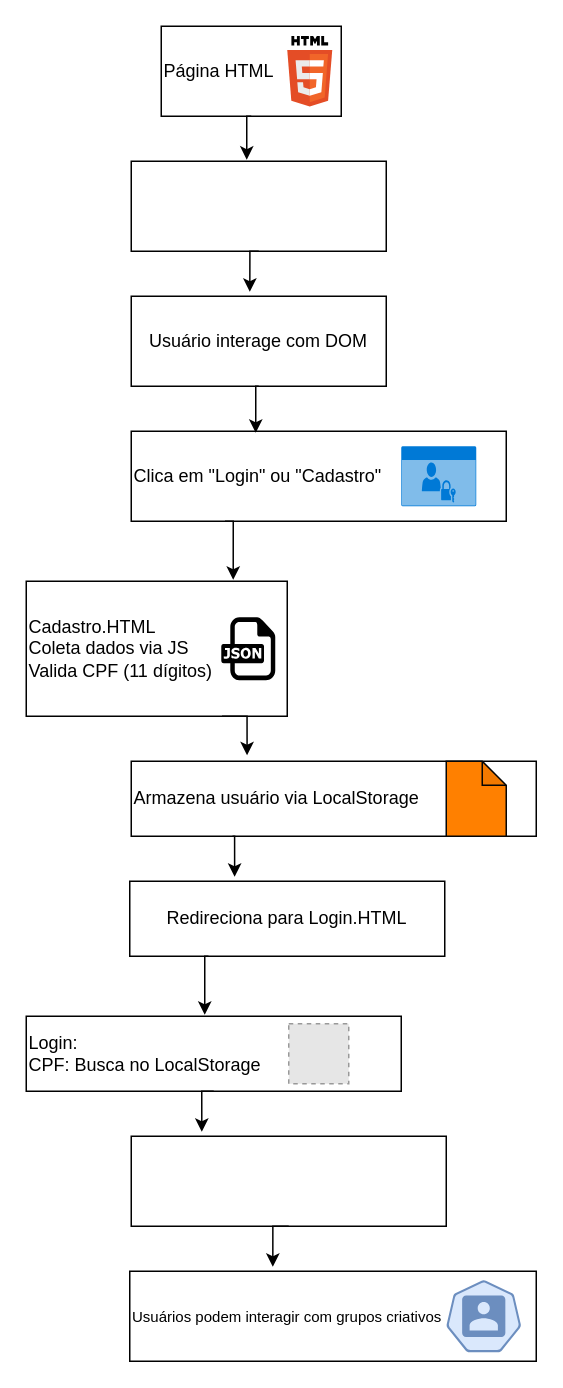
The diagram is 563 pixels wide and 1388 high, and some of its shapes have lost their labels. Grey dashed boxes stand in for pictures. The shapes that lost their labels are listed below. From the top down, each one's centre as x and y in pixels, then its label:
At point (258, 205): "Filtros coletam dados via DOM".
At point (438, 476): "Login".
At point (475, 798): "LocalStorage".
At point (288, 1180): "Se dados corretos -> salva loggedUser -> Redireciona para index.html".
